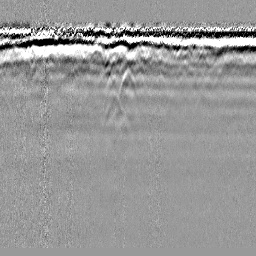cavity: (118, 65, 137, 99)
